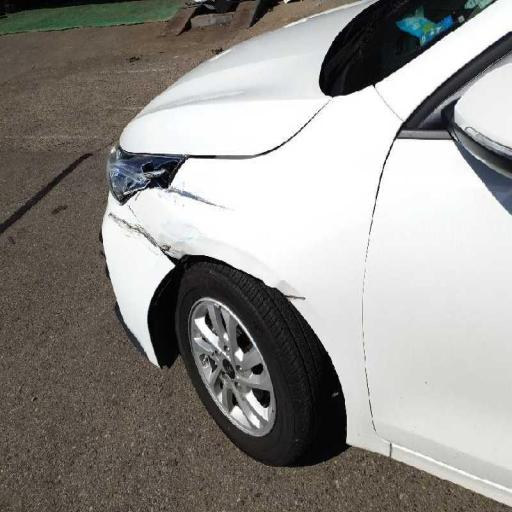broken: (94, 118, 224, 284), (258, 245, 350, 331)
